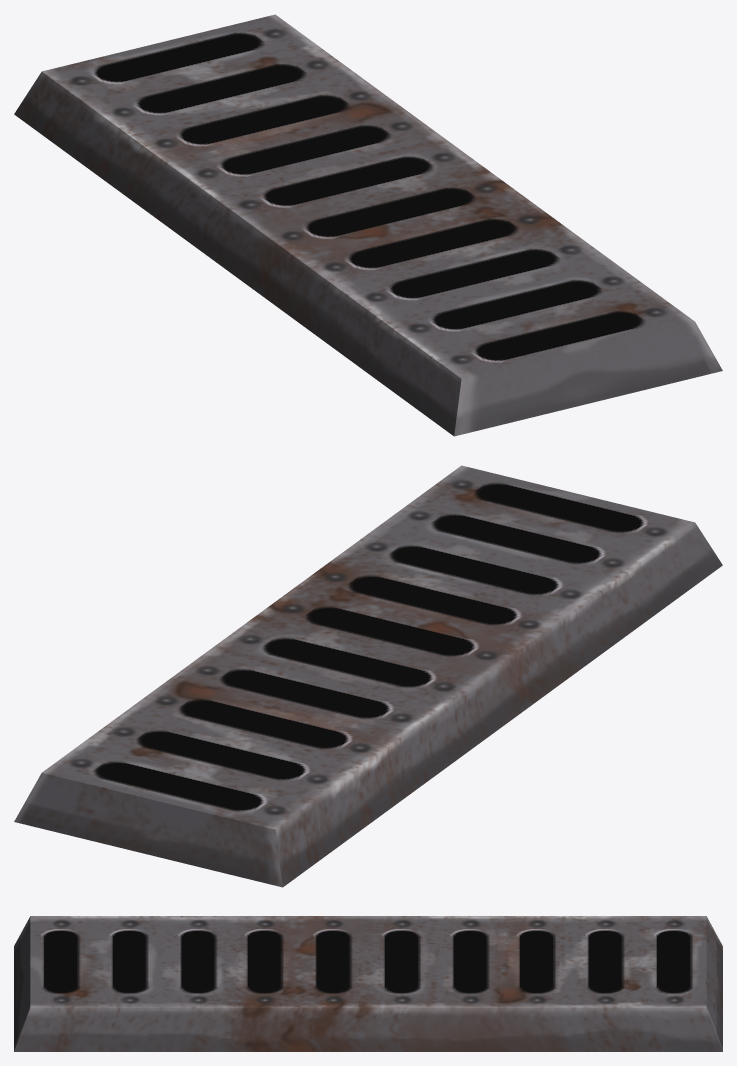
Rendered from manhole07.fbx.
3 renders of one model, top to bottom at view 1: azimuth 30°, elevation 25°; view 2: azimuth 150°, elevation 25°; view 3: azimuth 270°, elevation 25°, orthographic. The views are drawn at different scales.
Visible parts, largest first — view 1: manhole07; view 2: manhole07; view 3: manhole07.
Part boxes in pixels (box(x1,y1,x2,y2)): manhole07: box(14, 14, 722, 436); manhole07: box(14, 465, 722, 887); manhole07: box(14, 916, 722, 1051).
Bounding box in the file's own units: 30.57 × 5 × 86.68.
